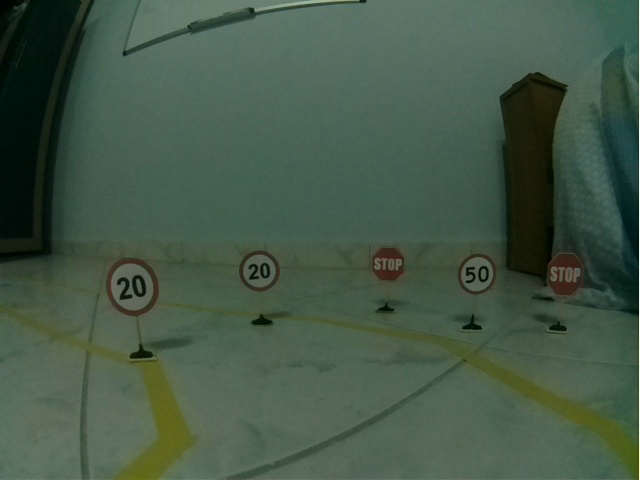Speed Limit 20: (105, 257, 160, 317), (238, 250, 280, 292)
Speed Limit 50: (458, 253, 497, 295)
Stop: (546, 251, 584, 297), (371, 246, 405, 283)
